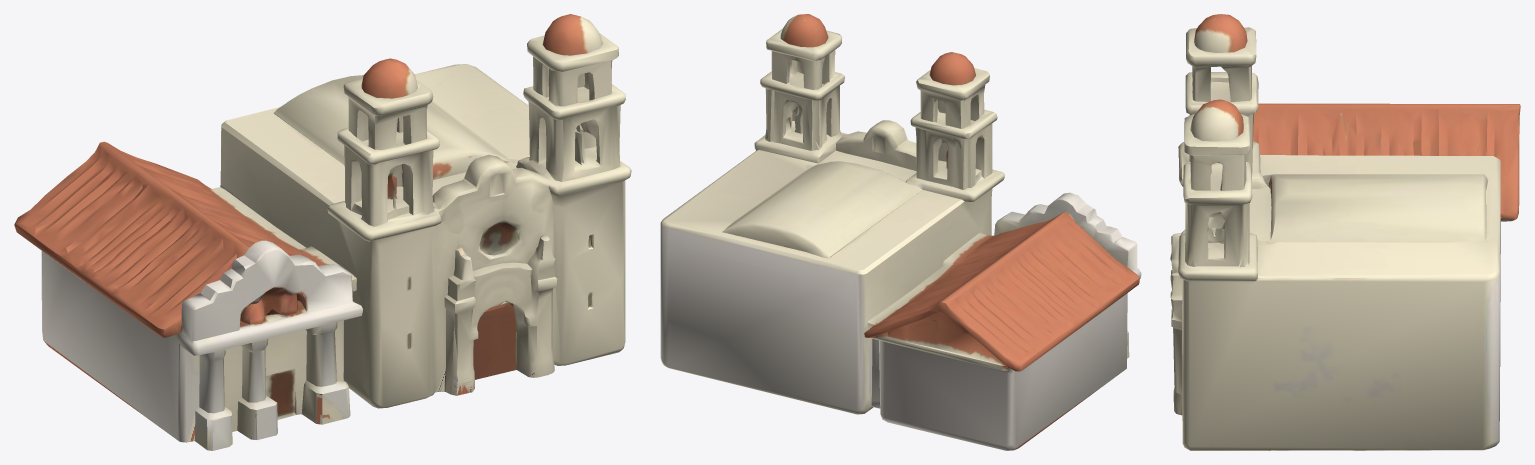
Rendered from mission-dolores.glb.
The picture shows the model from 3 angles, left to right: view 1: azimuth 30°, elevation 25°; view 2: azimuth 150°, elevation 25°; view 3: azimuth 270°, elevation 25°; orthographic projection. The views are drawn at different scales.
Parts seen in each view (by area): view 1: mission-dolores; view 2: mission-dolores; view 3: mission-dolores.
Part boxes in pixels (box(x1,y1,x2,y2)): mission-dolores: box(14, 14, 631, 450); mission-dolores: box(660, 14, 1141, 450); mission-dolores: box(1170, 14, 1520, 450).
Size of the model in its own units: 6.5 by 4.55 by 4.36.
Materials: 1 (1 with a texture image).
